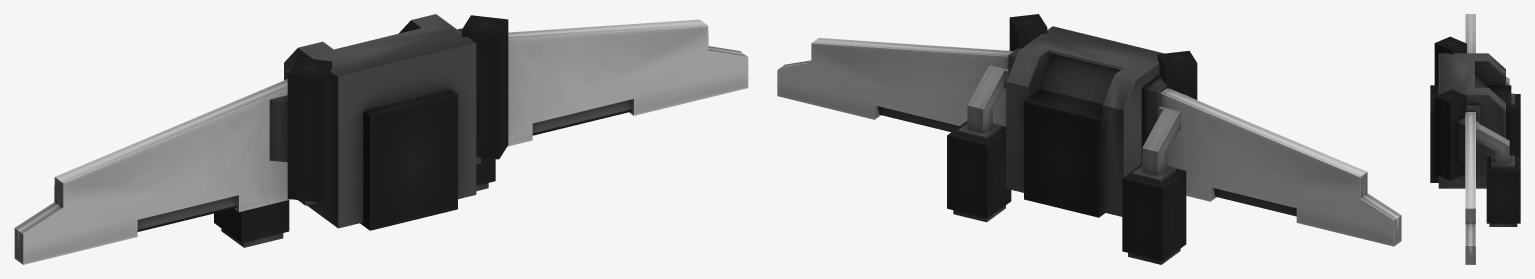
The model's file is jetpack.obj.
The picture shows the model from 3 angles, left to right: view 1: azimuth 30°, elevation 25°; view 2: azimuth 150°, elevation 25°; view 3: azimuth 270°, elevation 25°; orthographic projection. The views are drawn at different scales.
Visible parts, largest first — view 1: jetpack5; view 2: jetpack5, jetpack_glow; view 3: jetpack5, jetpack_glow.
Boxes of the visible parts, x1,y1,x2,y2 form: jetpack5: (14, 14, 748, 264); jetpack5: (777, 14, 1401, 264); jetpack_glow: (967, 65, 1180, 175); jetpack5: (1430, 14, 1520, 264); jetpack_glow: (1476, 77, 1509, 163).
Bounding box in the file's own units: 37.27 × 9.57 × 6.51.
